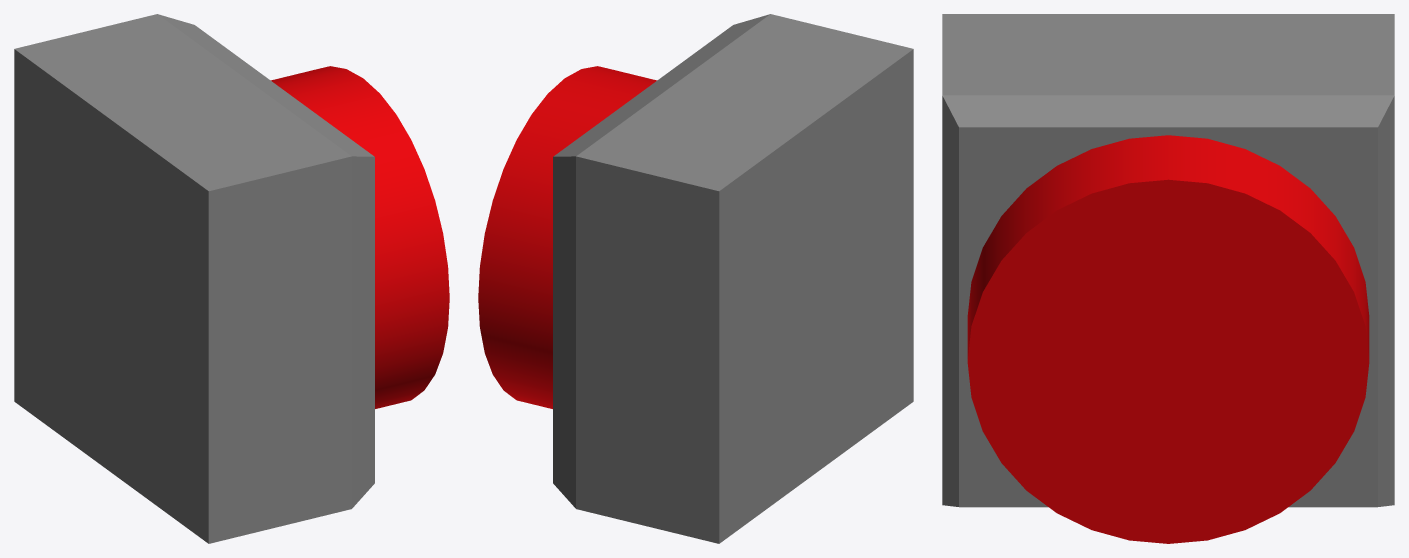
Rendered from Button.fbx.
3 views of the same model, side by side, from view 1: azimuth 30°, elevation 25°; view 2: azimuth 150°, elevation 25°; view 3: azimuth 270°, elevation 25° (orthographic). The views are drawn at different scales.
Parts seen in each view (by area): view 1: Cube, Cylinder; view 2: Cube, Cylinder; view 3: Cylinder, Cube.
Boxes of the visible parts, left/top/right/bottom form: Cube: left=14, top=14, right=374, bottom=543; Cylinder: left=271, top=66, right=449, bottom=408; Cube: left=553, top=14, right=913, bottom=543; Cylinder: left=478, top=66, right=656, bottom=408; Cylinder: left=967, top=135, right=1369, bottom=543; Cube: left=942, top=14, right=1394, bottom=507.
Bounding box in the file's own units: 45.43 × 60.79 × 60.79.
